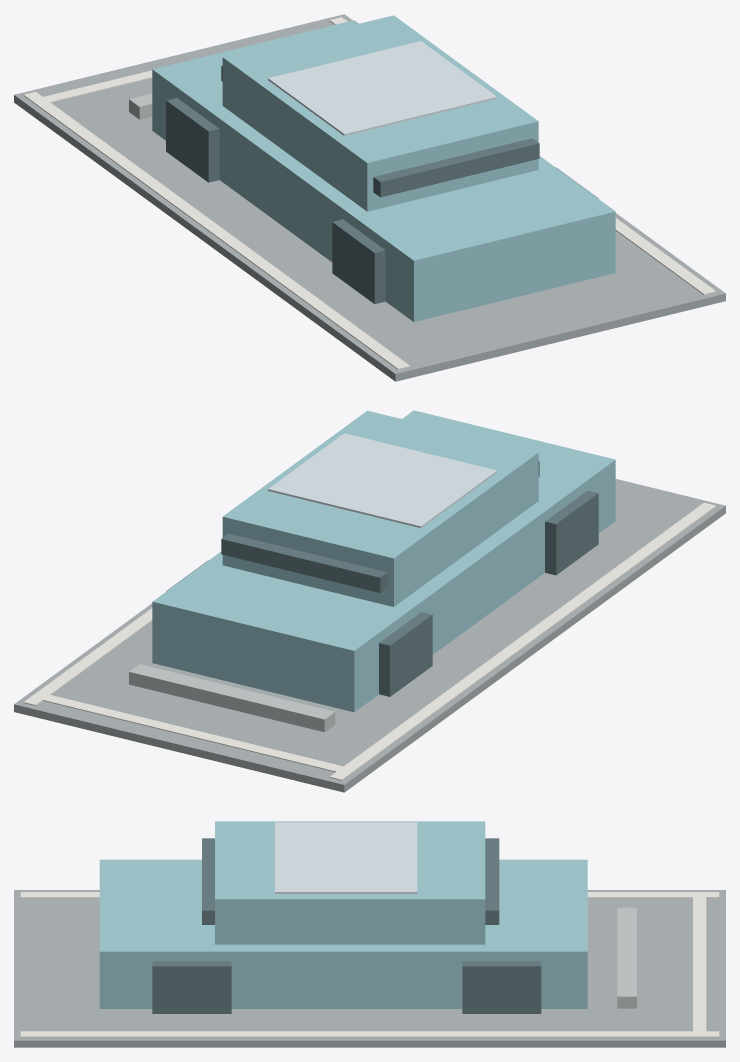
File: parking.glb
The picture shows the model from 3 angles, top to bottom: view 1: azimuth 30°, elevation 25°; view 2: azimuth 150°, elevation 25°; view 3: azimuth 270°, elevation 25°; orthographic projection. The views are drawn at different scales.
Size of the model in its own units: 2.7 by 0.965 by 5.4.
